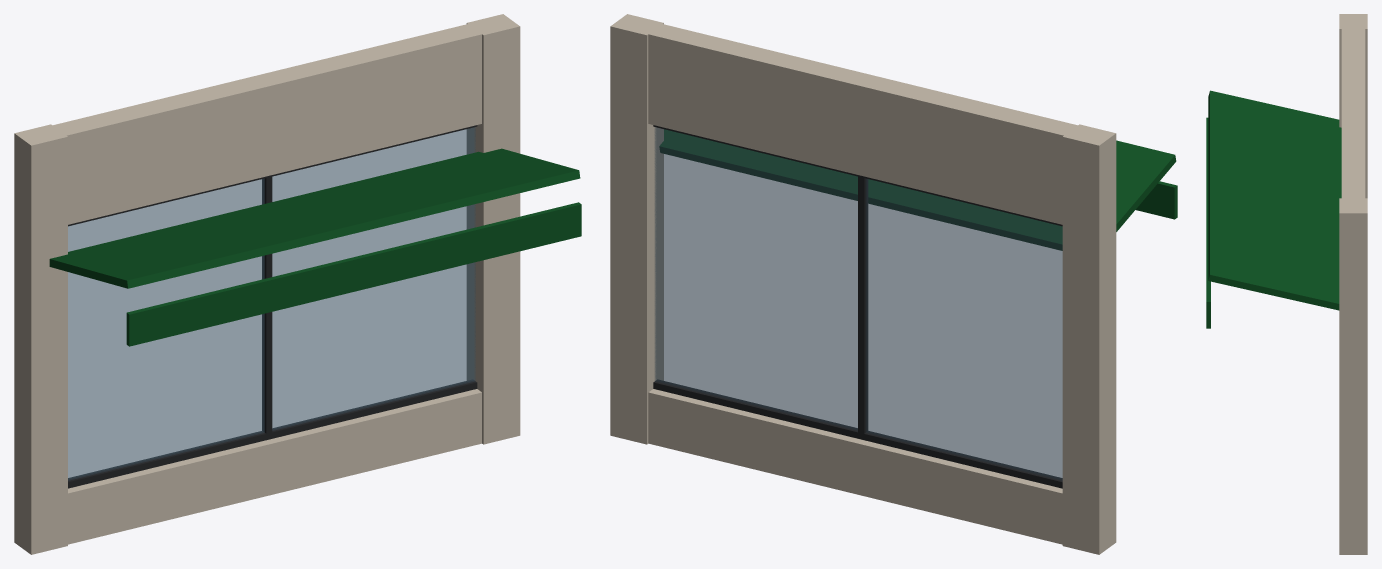
File: KIT_Storefront_4m_Plaster_FreshMartGreen.glb
The picture shows the model from 3 angles, left to right: view 1: azimuth 30°, elevation 25°; view 2: azimuth 150°, elevation 25°; view 3: azimuth 270°, elevation 25°; orthographic projection. The views are drawn at different scales.
Parts seen in each view (by area): view 1: KIT_Storefront_4m_Plaster_FreshMartGreen; view 2: KIT_Storefront_4m_Plaster_FreshMartGreen; view 3: KIT_Storefront_4m_Plaster_FreshMartGreen.
Boxes of the visible parts, x1=… form: KIT_Storefront_4m_Plaster_FreshMartGreen: x1=14, y1=14, x2=581, y2=554; KIT_Storefront_4m_Plaster_FreshMartGreen: x1=610, y1=14, x2=1177, y2=554; KIT_Storefront_4m_Plaster_FreshMartGreen: x1=1206, y1=14, x2=1367, y2=554.
Size of the model in its own units: 4 by 3.2 by 1.37.
